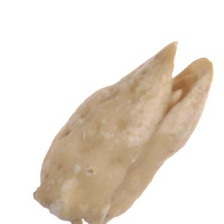L1: (163, 39, 212, 116), (32, 185, 98, 222)
L2: (33, 41, 213, 224)
